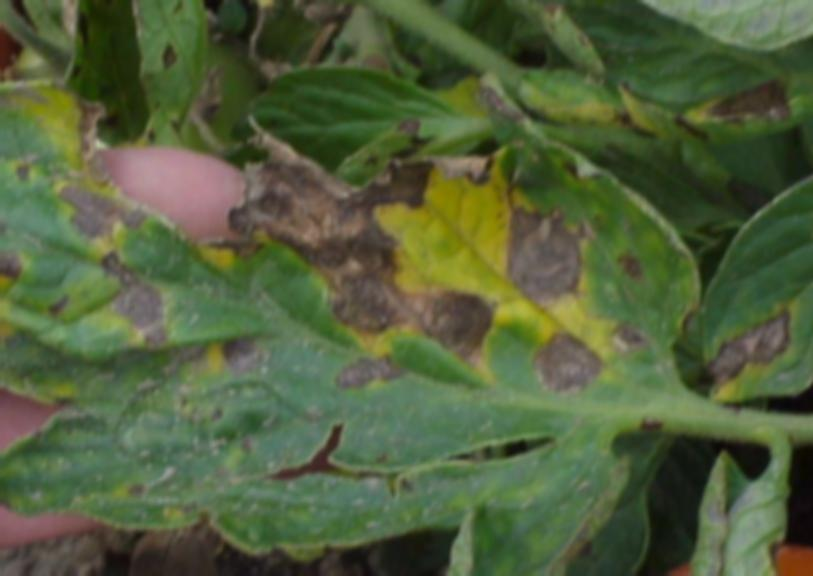Tomato Early blight leaf: (0, 128, 729, 563)
